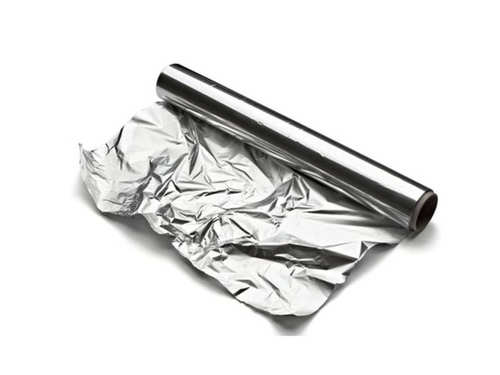metal: (75, 62, 439, 330)
